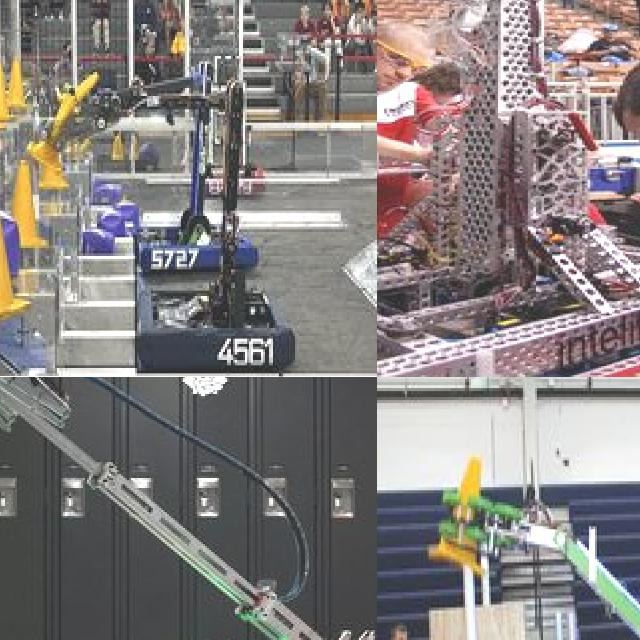FRC-Robots: (377, 0, 640, 377), (0, 377, 377, 640), (43, 56, 293, 377), (423, 444, 640, 640)
